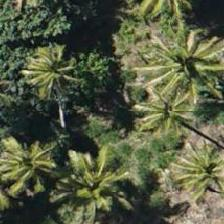coconut_tree: (125, 64, 215, 154), (52, 128, 142, 218), (3, 27, 93, 117), (143, 7, 223, 97), (0, 121, 66, 211), (165, 124, 223, 214)
